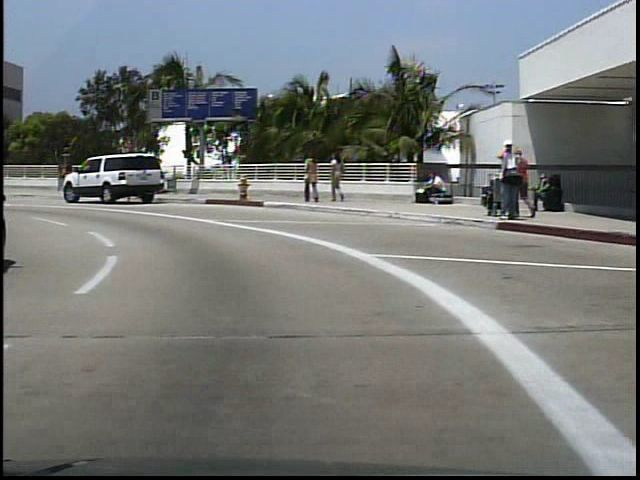person: (490, 136, 514, 223), (325, 151, 348, 207), (301, 147, 320, 206), (515, 145, 529, 222), (417, 172, 443, 207)
